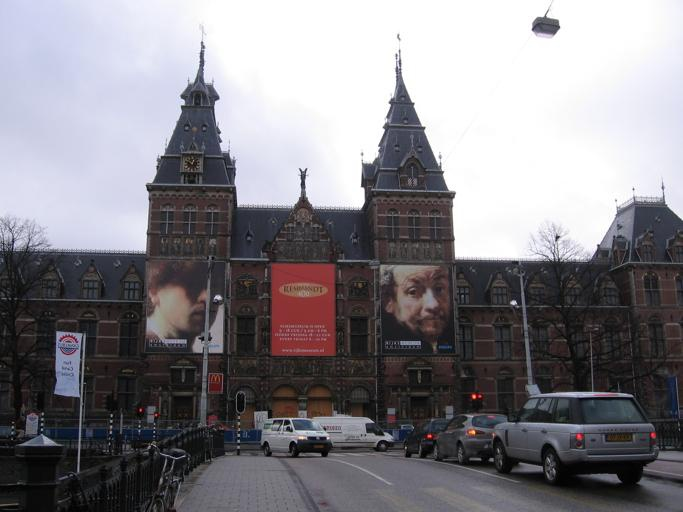non-vehicle: (137, 439, 190, 511), (197, 423, 222, 463)
